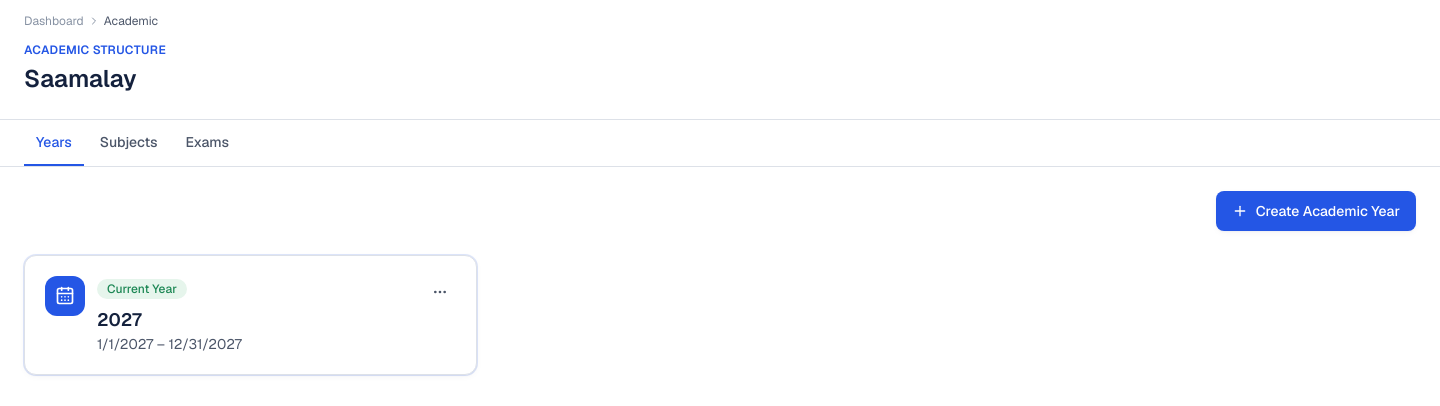
AcademicStructurePage — main navigation › the Subjects and Exams tabs still render without the removed Classes section
The image size is (1440, 406).
Expected: the button "Years" is shown, [24,120,84,166]
Click the button "Subjects". click: (129, 143)
box: [88,120,170,166]
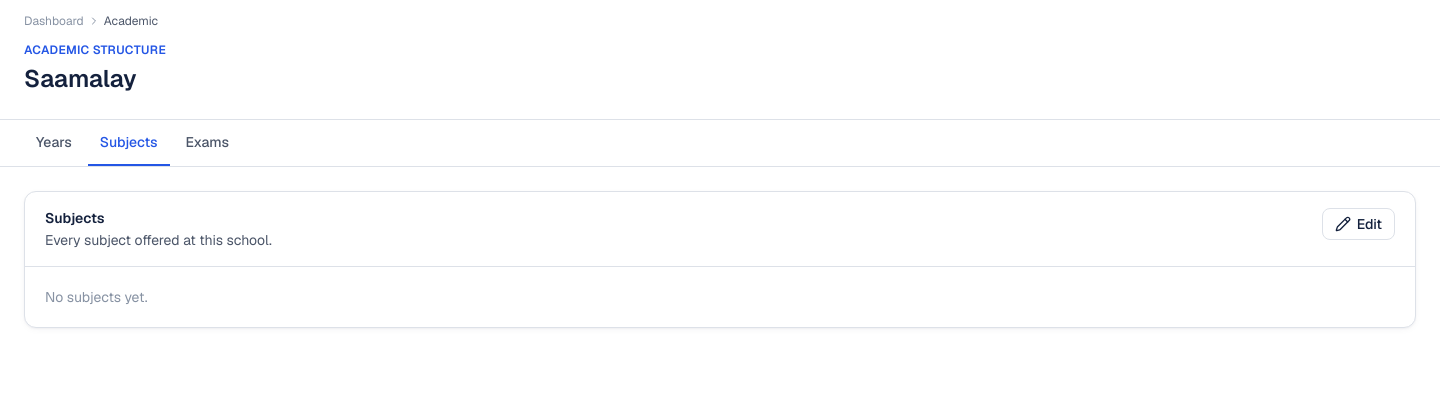
Now the text "Every subject offered at this school." is shown, box [45,230,272,250]
Click the button "Exams". click: (207, 143)
box: [174,120,241,166]
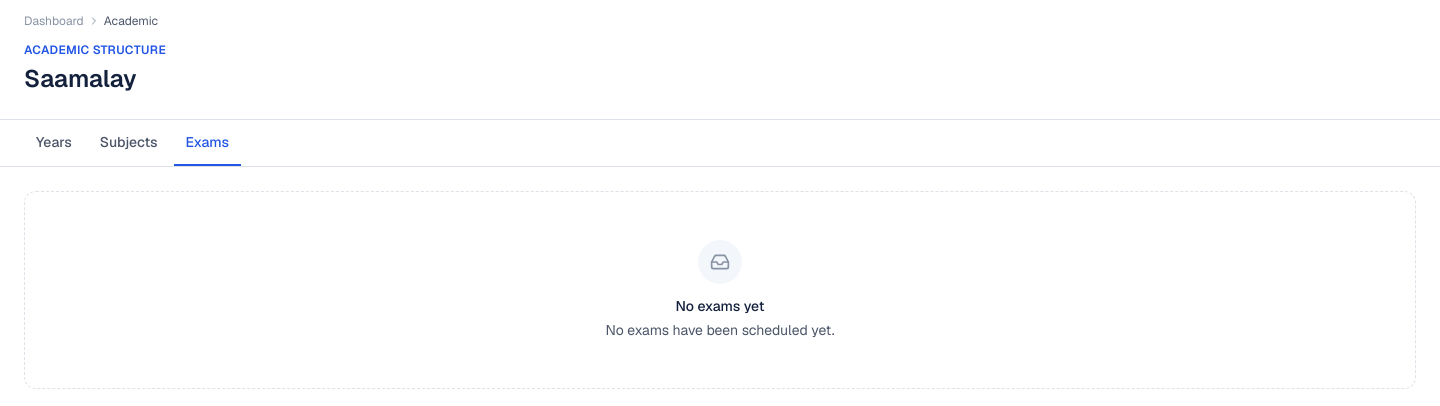
Now the text "No exams yet" is shown, box [676,296,764,316]
